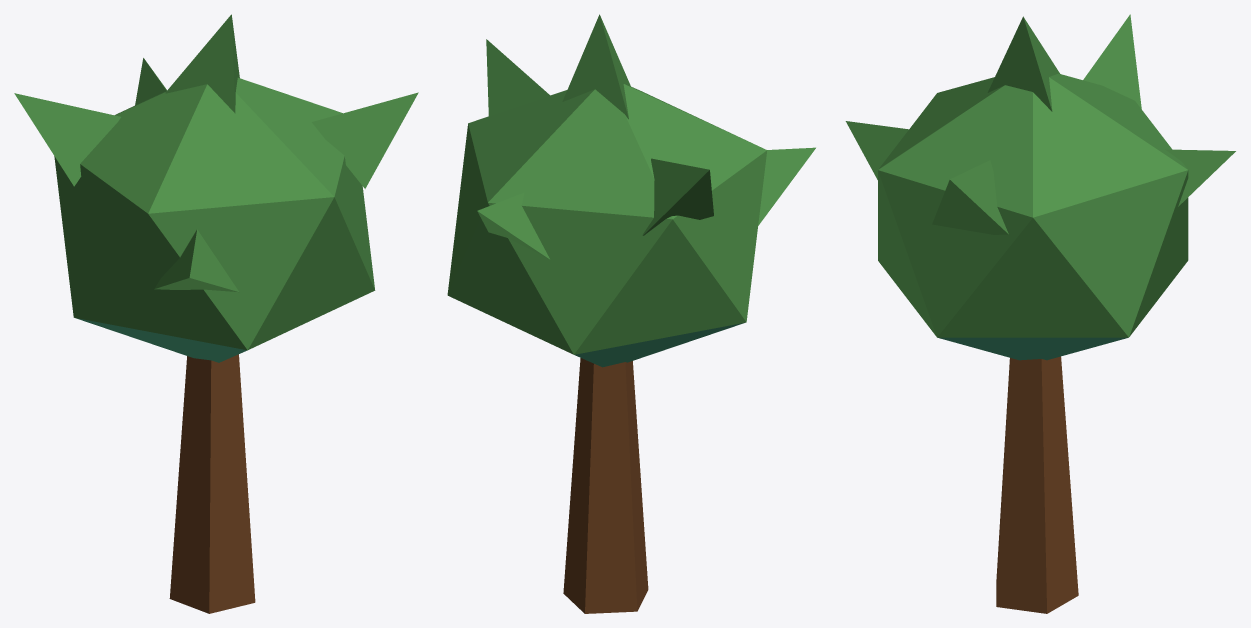
File: TreeRound.fbx
The picture shows the model from 3 angles, left to right: view 1: azimuth 30°, elevation 25°; view 2: azimuth 150°, elevation 25°; view 3: azimuth 270°, elevation 25°; orthographic projection.
Visible parts, largest first — view 1: TreeRound; view 2: TreeRound; view 3: TreeRound.
Part boxes in pixels (box(x1,y1,x2,y2)): TreeRound: box(14, 14, 418, 613); TreeRound: box(447, 14, 815, 613); TreeRound: box(845, 14, 1235, 613).
Size of the model in its own units: 4.02 by 7.08 by 4.29.
Materials: 1 (1 with a texture image).
